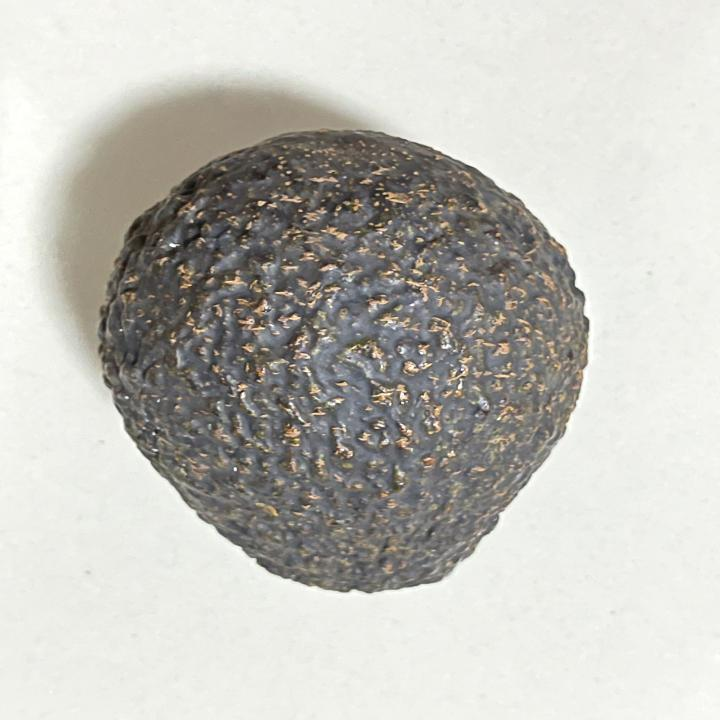Level2: (88, 125, 602, 604)
